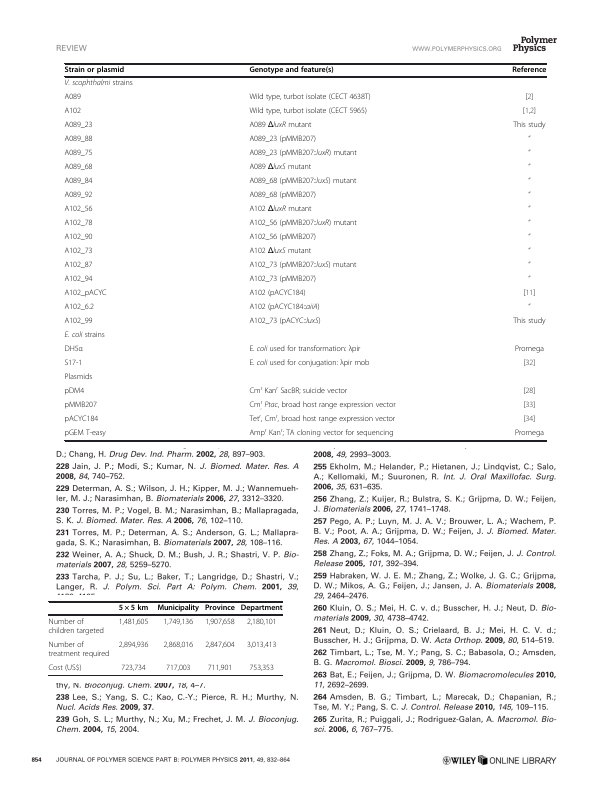borderless: (63, 62, 546, 440), (47, 600, 283, 675)
cell: (248, 399, 396, 411), (248, 413, 396, 425), (248, 427, 394, 439), (248, 93, 371, 103), (248, 359, 370, 369), (248, 107, 368, 117), (248, 385, 348, 397), (248, 345, 361, 355), (48, 640, 110, 658), (248, 149, 358, 159), (248, 219, 358, 229), (248, 177, 357, 187), (248, 261, 357, 271), (48, 617, 105, 635), (248, 66, 335, 75), (248, 317, 321, 327), (248, 303, 320, 313), (64, 79, 134, 89), (248, 135, 317, 145), (248, 191, 317, 201), (248, 233, 317, 243), (248, 275, 317, 285), (248, 121, 312, 131), (248, 163, 312, 173), (248, 205, 312, 215), (248, 247, 312, 257), (248, 289, 306, 299), (64, 66, 125, 75), (64, 289, 108, 299), (64, 429, 107, 439), (64, 331, 106, 341), (156, 604, 200, 613), (240, 604, 283, 613), (64, 415, 99, 425), (512, 121, 546, 131), (512, 317, 546, 327), (64, 401, 98, 411), (511, 66, 547, 75), (162, 617, 194, 627), (204, 617, 236, 627), (48, 663, 83, 672), (64, 303, 95, 313), (514, 345, 545, 355), (514, 429, 545, 439), (118, 617, 149, 627), (246, 617, 277, 627), (64, 121, 93, 131), (64, 135, 93, 145), (64, 149, 93, 159), (64, 163, 93, 173), (64, 177, 93, 187), (64, 191, 93, 201), (64, 205, 93, 215), (64, 219, 93, 229), (64, 233, 93, 243), (64, 247, 93, 257), (64, 261, 93, 271), (64, 275, 93, 285), (64, 317, 93, 327), (64, 373, 93, 383), (204, 604, 236, 613), (162, 640, 194, 649), (204, 640, 236, 649), (118, 604, 149, 613), (118, 640, 149, 649), (246, 640, 277, 649), (120, 663, 147, 672), (248, 663, 275, 672), (165, 663, 191, 672), (207, 663, 233, 672), (64, 387, 85, 397), (64, 345, 84, 355), (64, 359, 83, 369), (64, 93, 82, 103), (64, 107, 82, 117), (522, 107, 537, 117), (522, 289, 536, 299), (522, 359, 536, 369), (522, 387, 536, 397), (522, 401, 536, 411), (522, 415, 536, 425), (524, 93, 534, 103), (527, 135, 531, 143), (527, 149, 531, 157), (527, 163, 531, 171), (527, 177, 531, 185), (527, 191, 531, 199), (527, 205, 531, 213), (527, 219, 531, 227), (527, 233, 531, 241), (527, 247, 531, 255), (527, 261, 531, 269), (527, 275, 531, 283), (527, 303, 531, 311)
